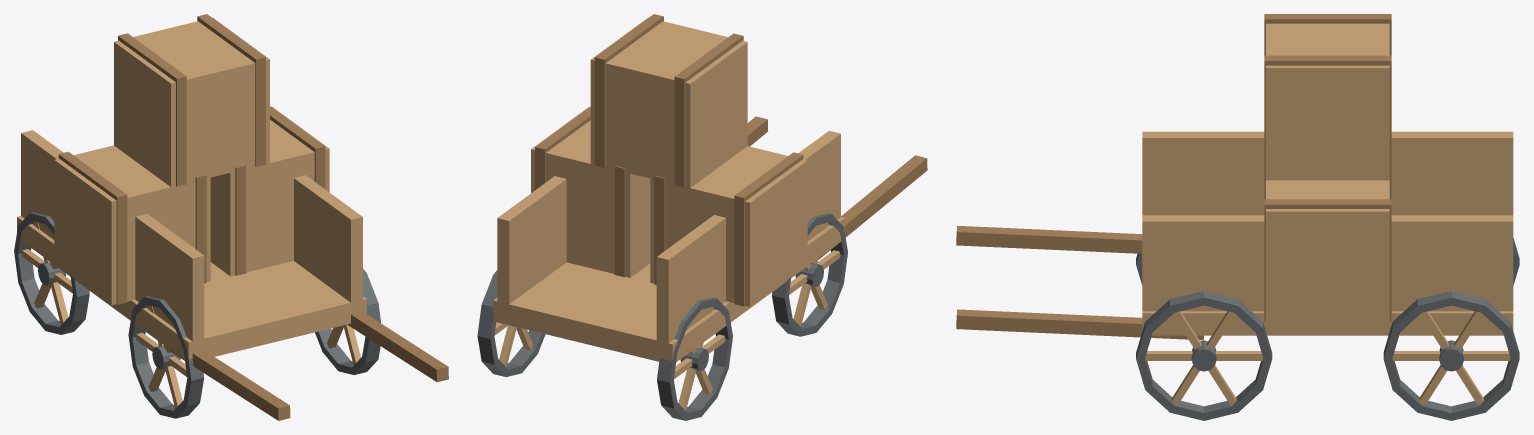
The model's file is supply-wagon.glb.
3 renders of one model, left to right at view 1: azimuth 30°, elevation 25°; view 2: azimuth 150°, elevation 25°; view 3: azimuth 270°, elevation 25°, orthographic. The views are drawn at different scales.
Visible parts, largest first — view 1: supply-wagon; view 2: supply-wagon; view 3: supply-wagon.
Part boxes in pixels (left/top/right/bottom): supply-wagon: left=14, top=14, right=448, bottom=420; supply-wagon: left=477, top=14, right=927, bottom=420; supply-wagon: left=956, top=14, right=1519, bottom=420.
Size of the model in its own units: 2.2 by 2.94 by 4.55.
